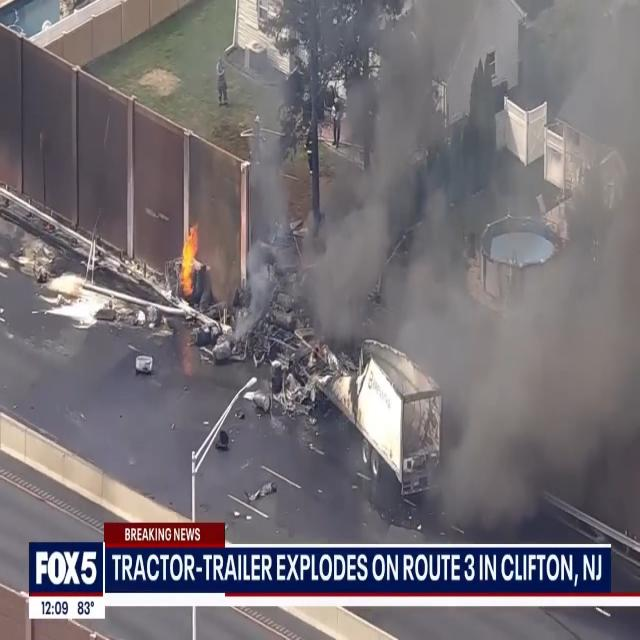fire: (176, 220, 204, 298)
